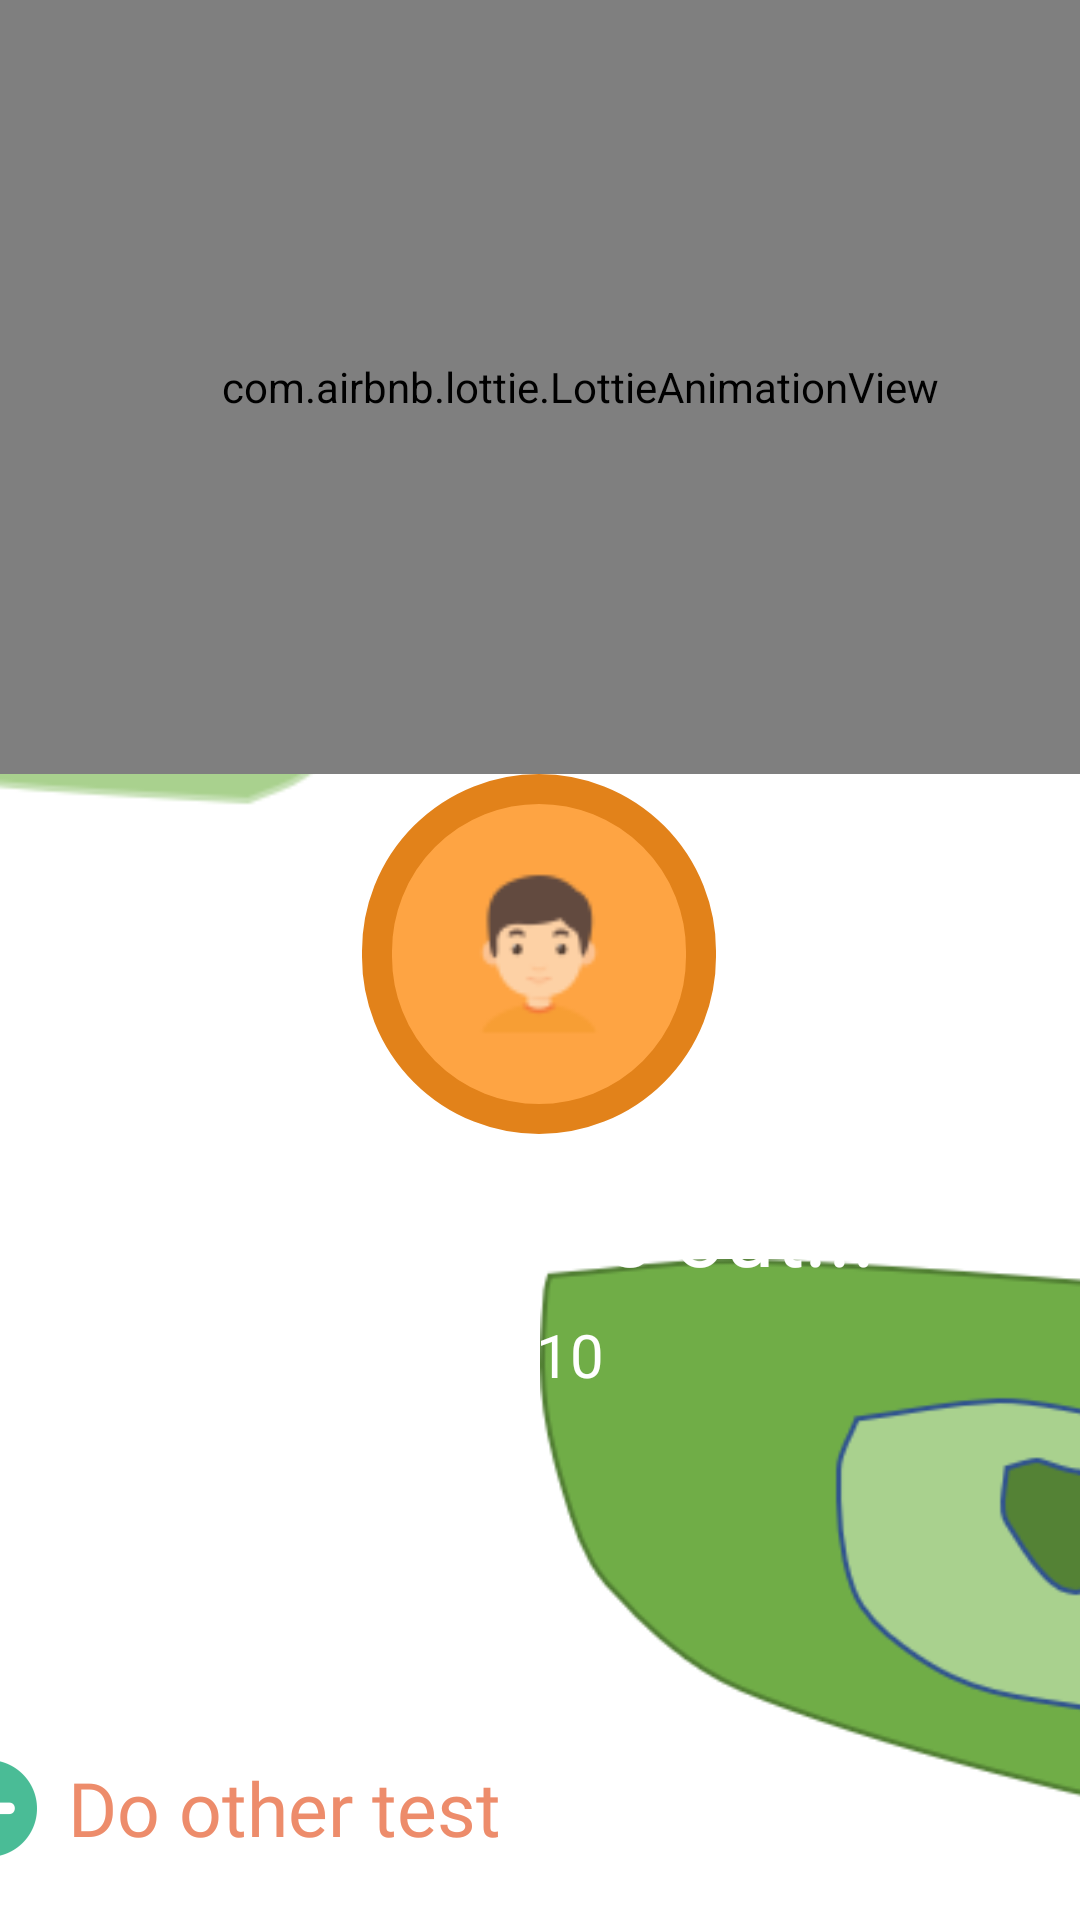

Icon click points for this 1080w x 1920h phone screenshot, format point (x, y):
boy: point (539, 954)
